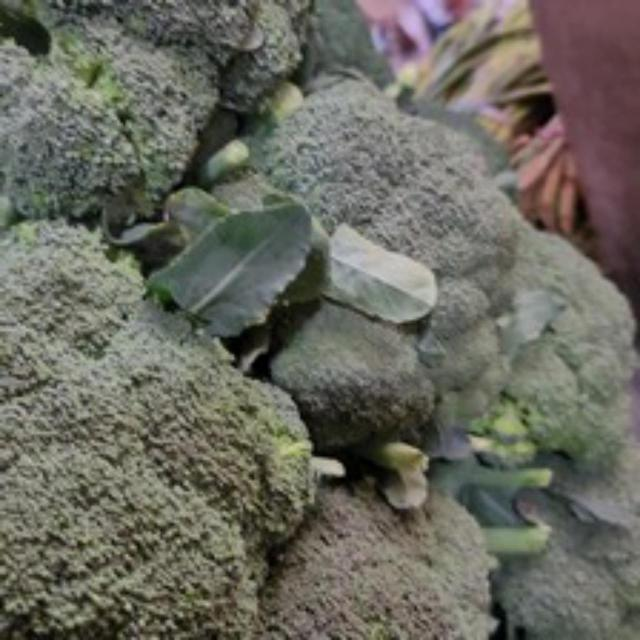broccoli: (0, 197, 331, 637)
